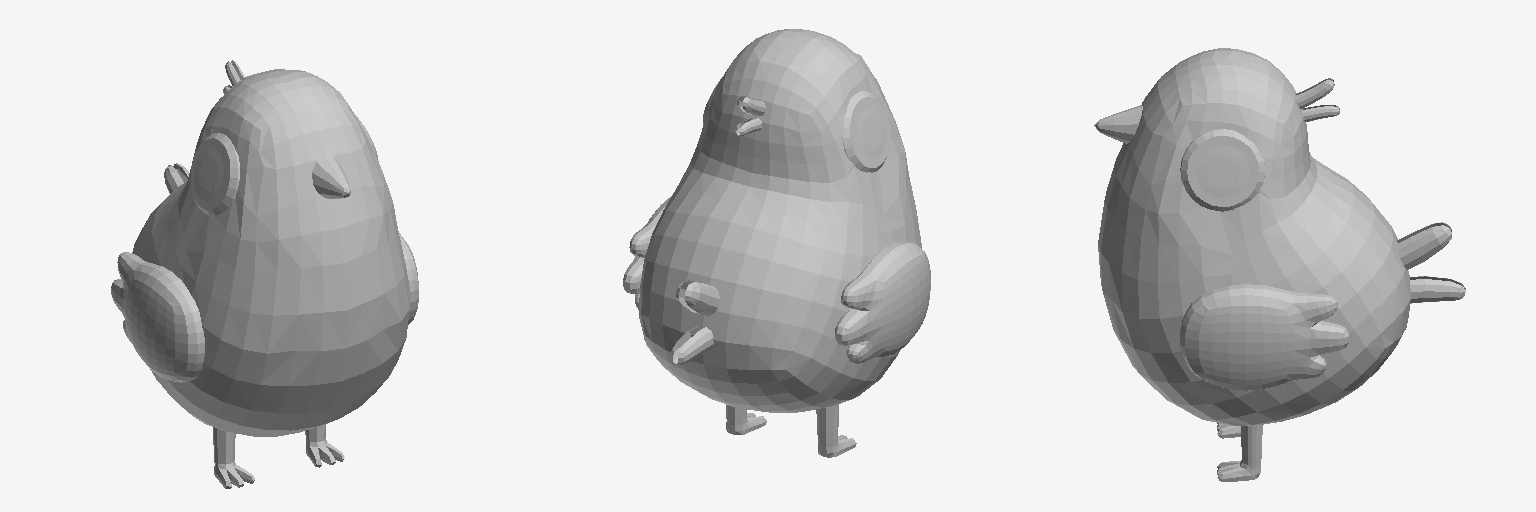
Rendered from Sparrow_LOD0.obj.
The picture shows the model from 3 angles: view 1: azimuth 30°, elevation 25°; view 2: azimuth 150°, elevation 25°; view 3: azimuth 270°, elevation 25°; orthographic projection.
Visible parts, largest first — view 1: Mesh_Sparrow_LOD0; view 2: Mesh_Sparrow_LOD0; view 3: Mesh_Sparrow_LOD0.
Boxes of the visible parts, x1,y1,x2,y2 form: Mesh_Sparrow_LOD0: [111, 60, 418, 488]; Mesh_Sparrow_LOD0: [623, 29, 930, 457]; Mesh_Sparrow_LOD0: [1094, 48, 1465, 481].
Bounding box in the file's own units: 0.4523 × 0.6727 × 0.5698.